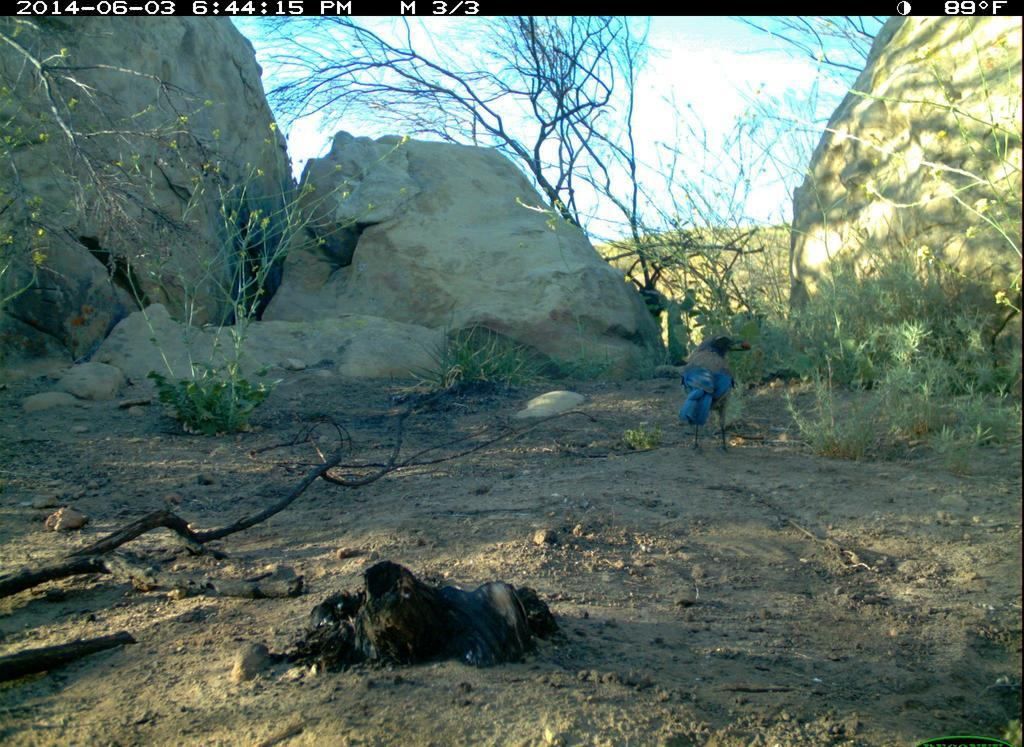bird: (684, 326, 753, 450)
